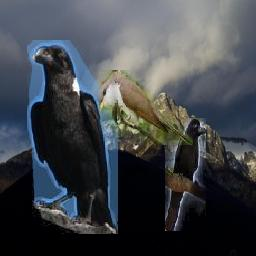Crow: (28, 40, 119, 234), (166, 119, 207, 232)
Cuckoo: (99, 71, 193, 146)
